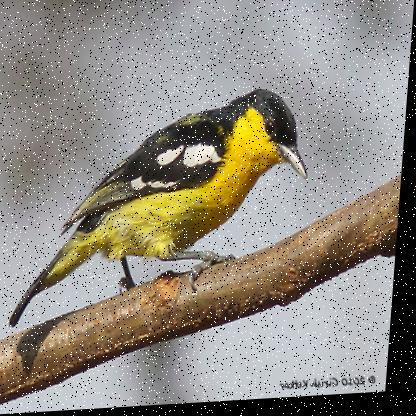Burung: (13, 89, 316, 328)
